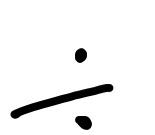div: (8, 48, 115, 130)
